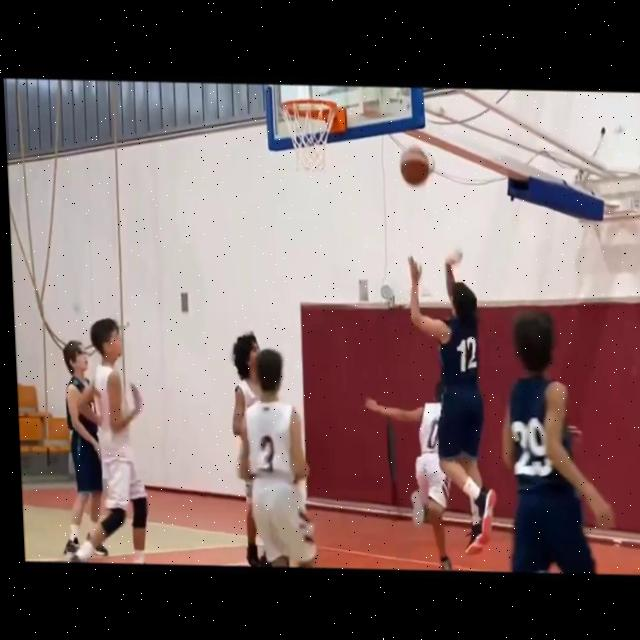basketball: (398, 142, 431, 188)
hoop: (278, 95, 342, 180)
